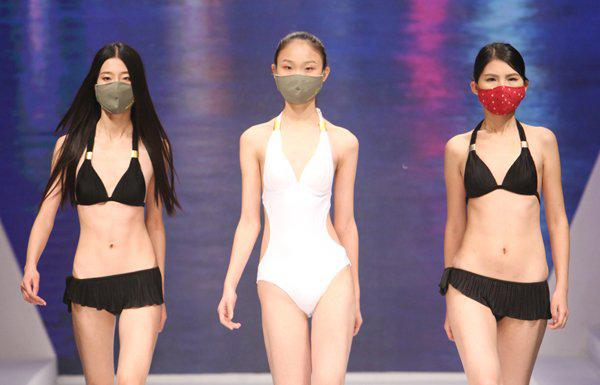OK: (274, 58, 320, 104), (480, 69, 526, 115), (92, 67, 137, 112)
